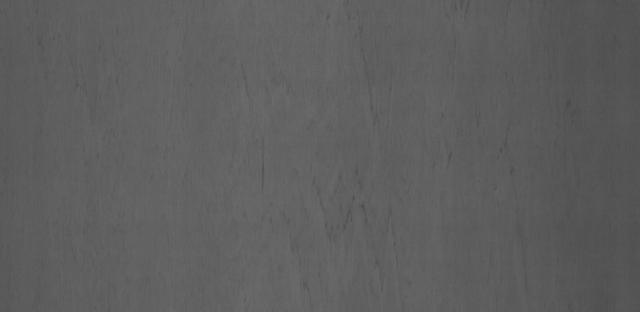silk_spot: (222, 69, 468, 296)
